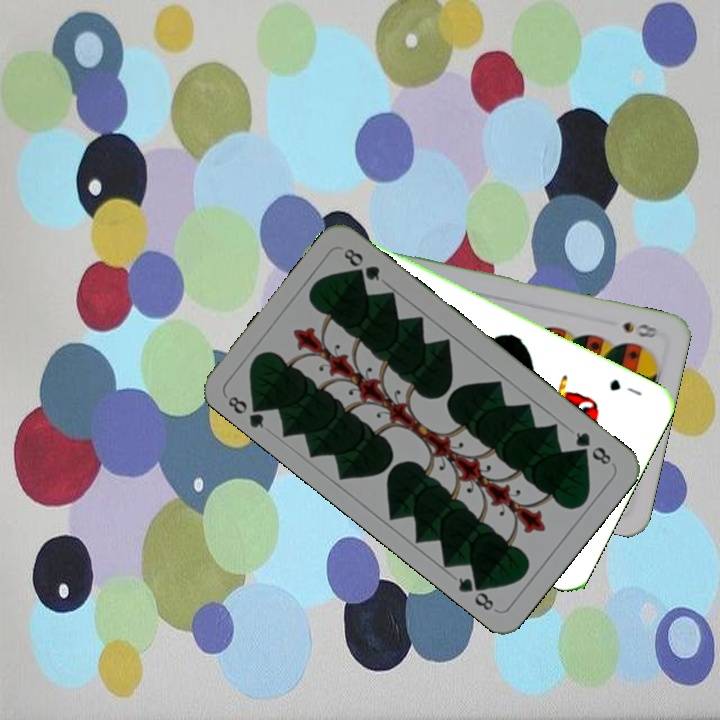G8: (223, 392, 270, 431), (571, 427, 614, 468)
GU: (605, 375, 645, 399)
S8: (618, 317, 660, 341)
